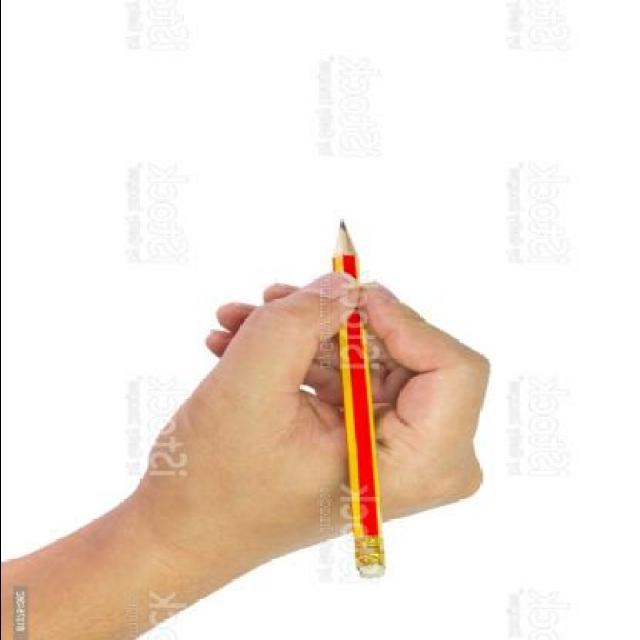pencil: (320, 218, 366, 268)
